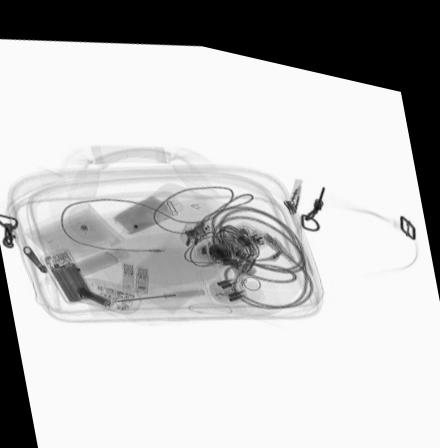Powerbank: (41, 244, 99, 301)
